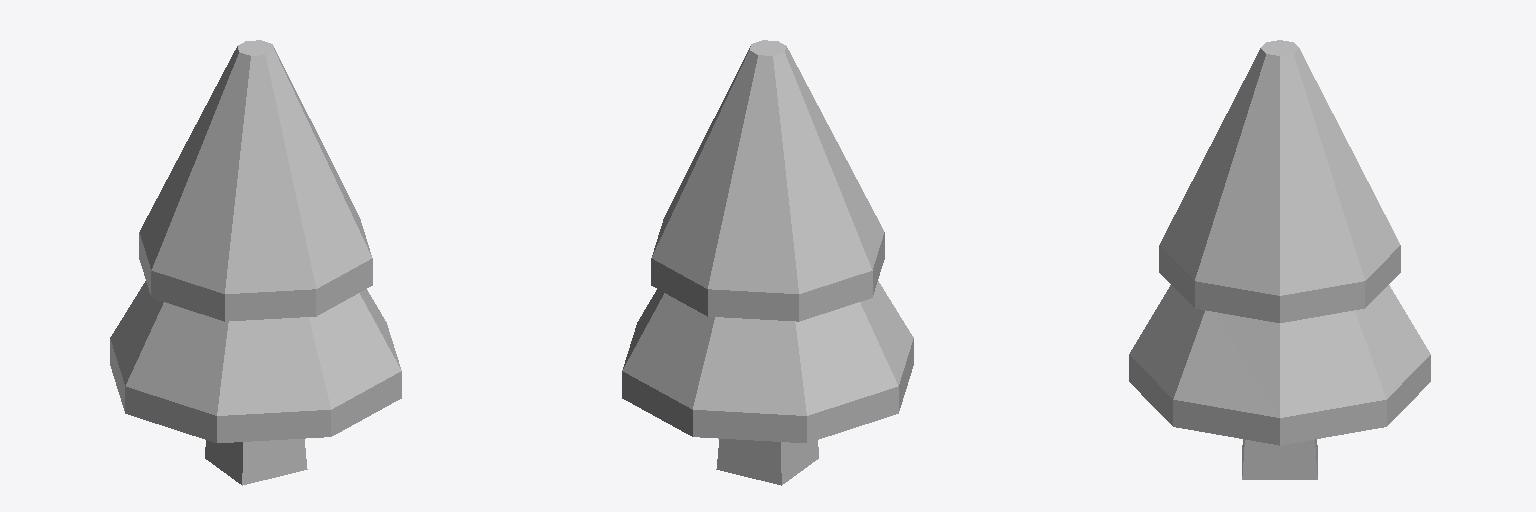
The model's file is sakura_tile_tree.obj.
The picture shows the model from 3 angles: view 1: azimuth 30°, elevation 25°; view 2: azimuth 150°, elevation 25°; view 3: azimuth 270°, elevation 25°; orthographic projection.
Parts seen in each view (by area): view 1: tree; view 2: tree; view 3: tree.
Boxes of the visible parts, x1,y1,x2,y2 form: tree: [110, 40, 401, 485]; tree: [622, 40, 913, 485]; tree: [1129, 40, 1430, 479].
Size of the model in its own units: 0.5 by 0.76 by 0.5.